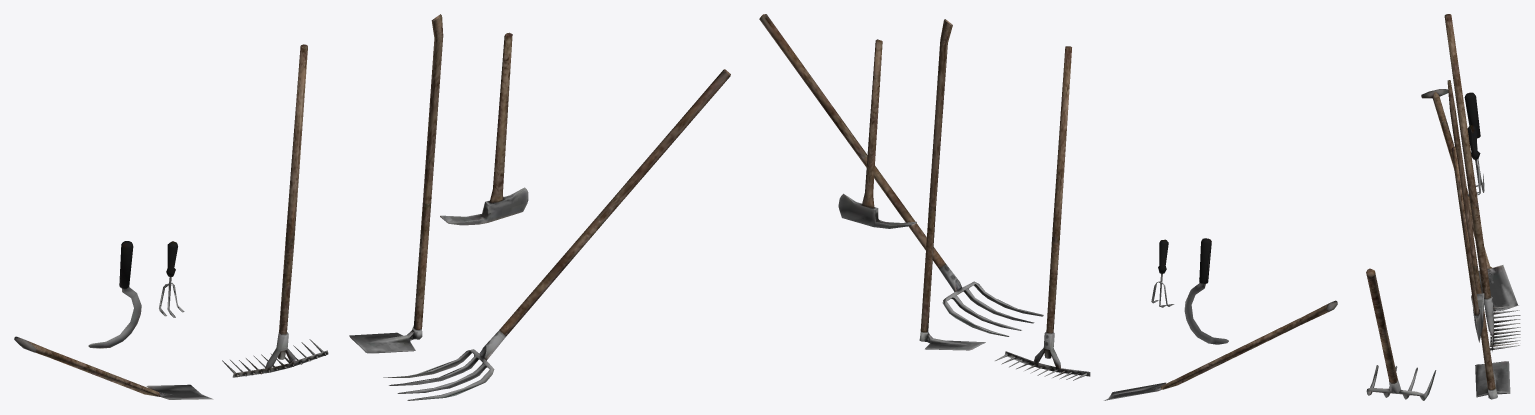
The model's file is farm_tools.glb.
3 renders of one model, left to right at view 1: azimuth 30°, elevation 25°; view 2: azimuth 150°, elevation 25°; view 3: azimuth 270°, elevation 25°, orthographic. The views are drawn at different scales.
Parts seen in each view (by area): view 1: 01_all_0; view 2: 01_all_0; view 3: 01_all_0.
Boxes of the visible parts, <box> form: 01_all_0: <box>14,14,730,400</box>; 01_all_0: <box>759,14,1337,400</box>; 01_all_0: <box>1366,14,1520,400</box>.
Size of the model in its own units: 17.74 by 8.84 by 3.77.
Materials: 1 (1 with a texture image).
